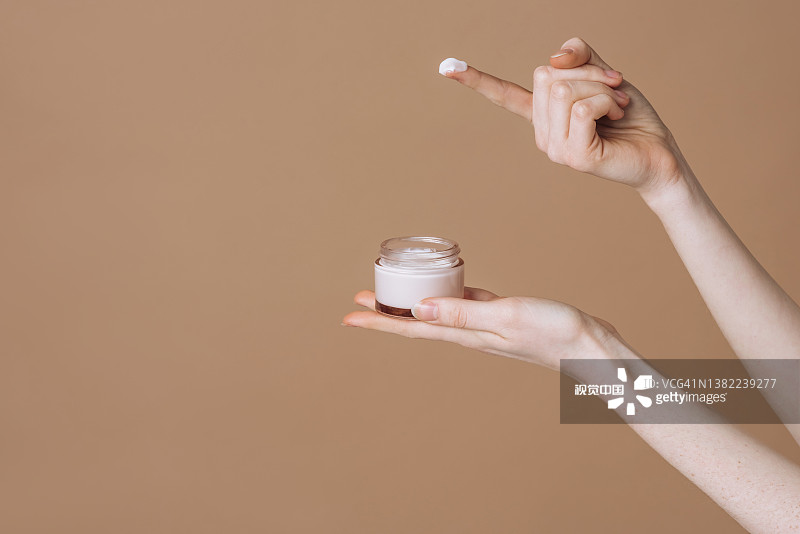no-phone: (329, 219, 625, 375), (428, 22, 695, 192)
